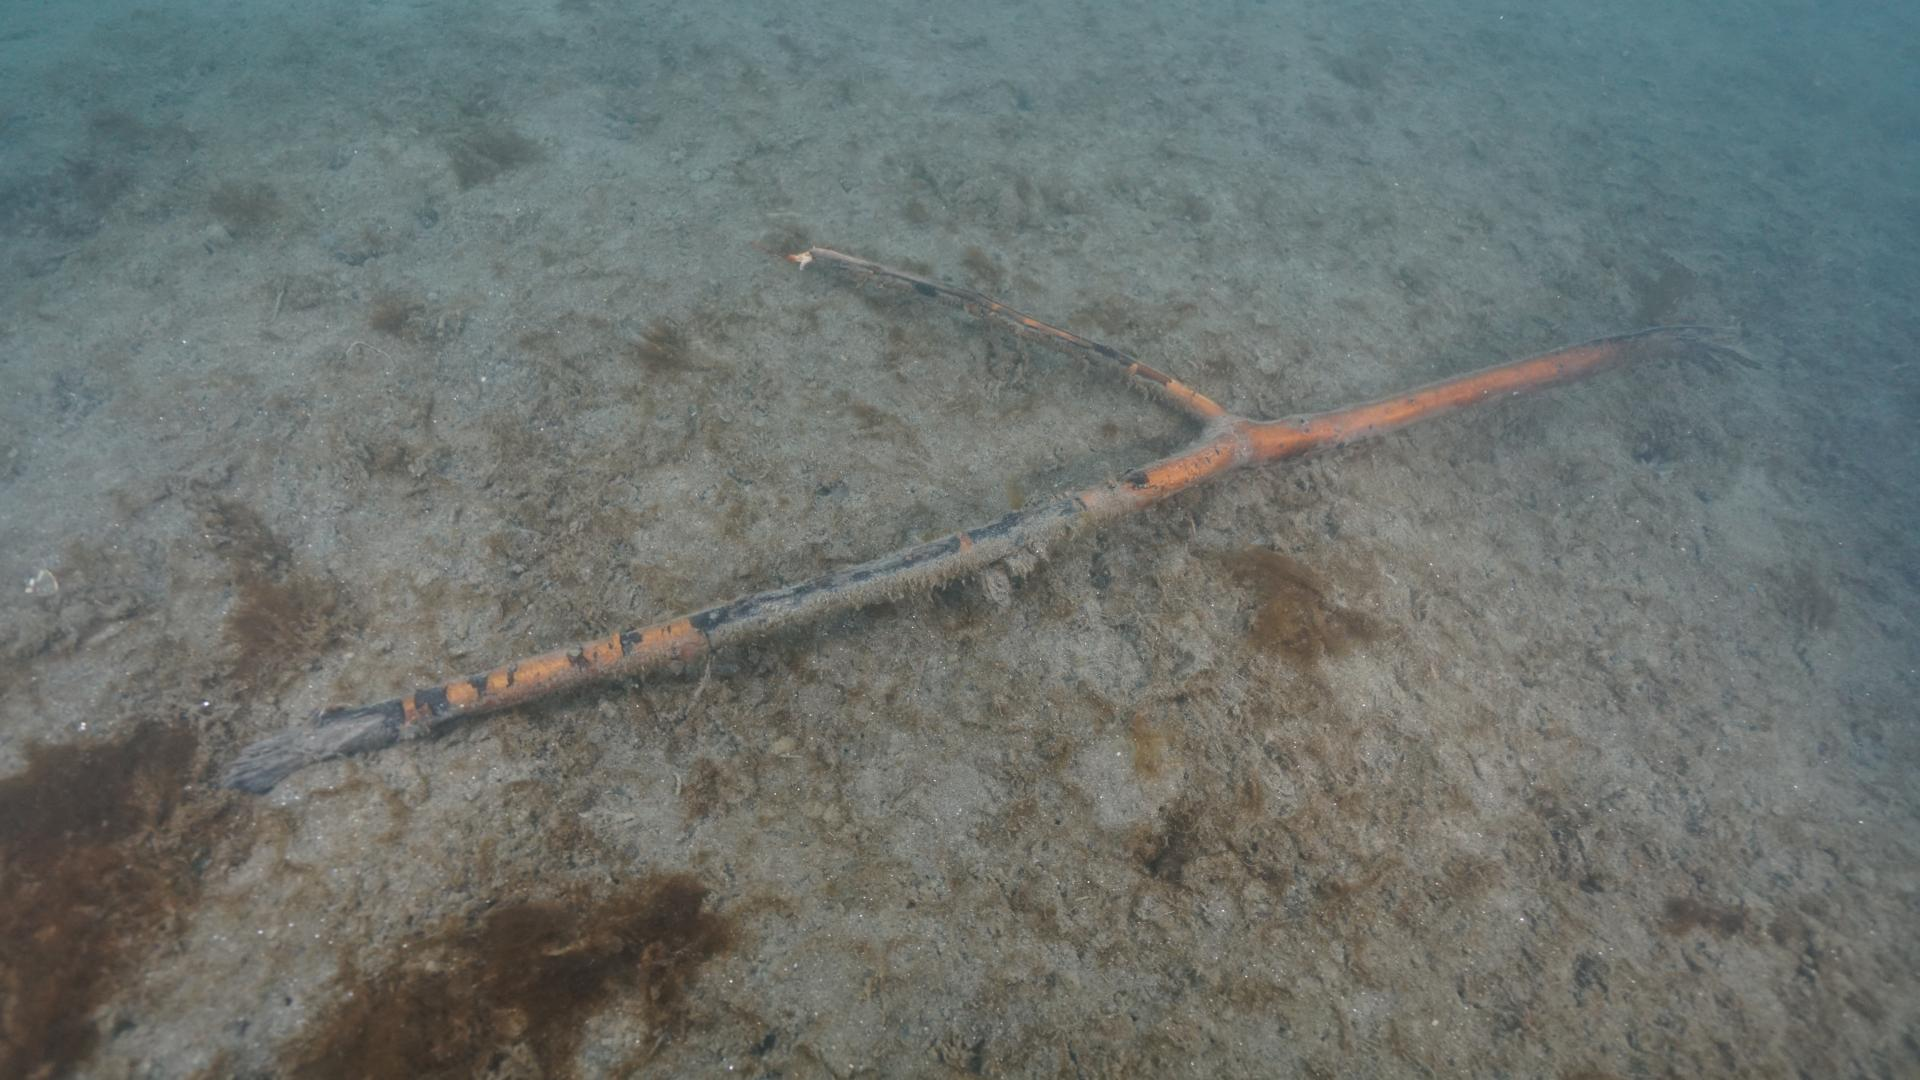wood: (220, 243, 1756, 795)
